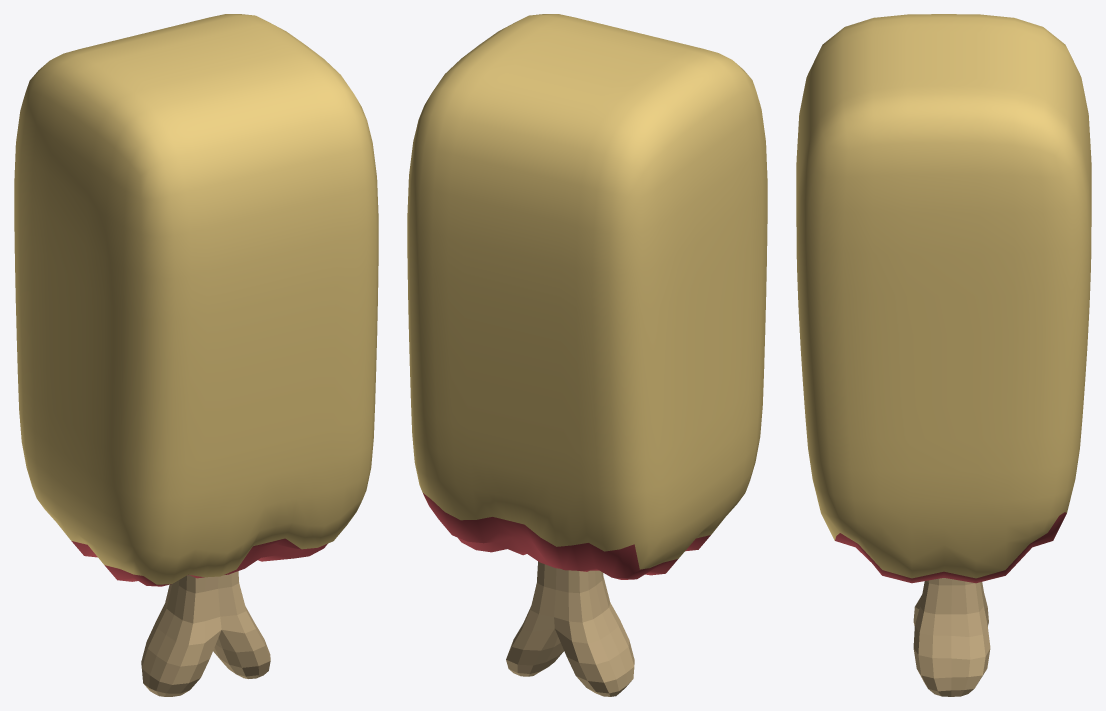
The model's file is UpperLeg_Dism.fbx.
The picture shows the model from 3 angles, left to right: view 1: azimuth 30°, elevation 25°; view 2: azimuth 150°, elevation 25°; view 3: azimuth 270°, elevation 25°; orthographic projection. The views are drawn at different scales.
Visible parts, largest first — view 1: Bone.003; view 2: Bone.003; view 3: Bone.003.
Boxes of the visible parts, left/top/right/bottom form: Bone.003: left=14, top=14, right=378, bottom=696; Bone.003: left=407, top=14, right=767, bottom=696; Bone.003: left=796, top=14, right=1091, bottom=696.
Size of the model in its own units: 83.34 by 195 by 84.87.
